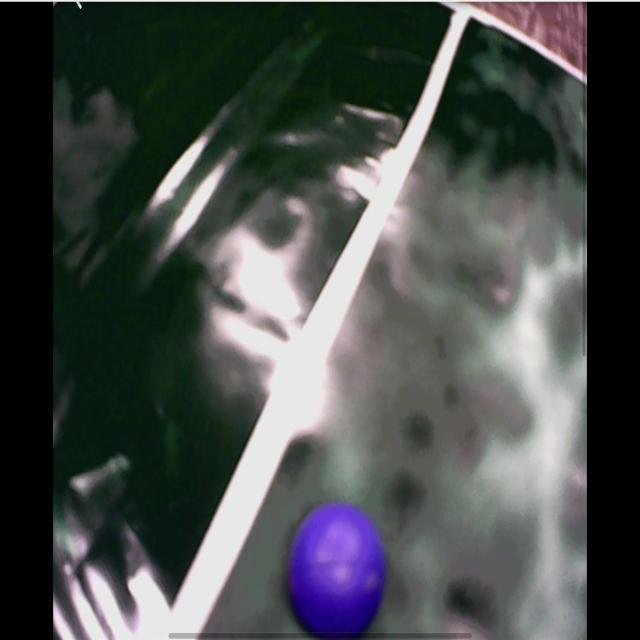ball: (288, 503, 385, 636)
